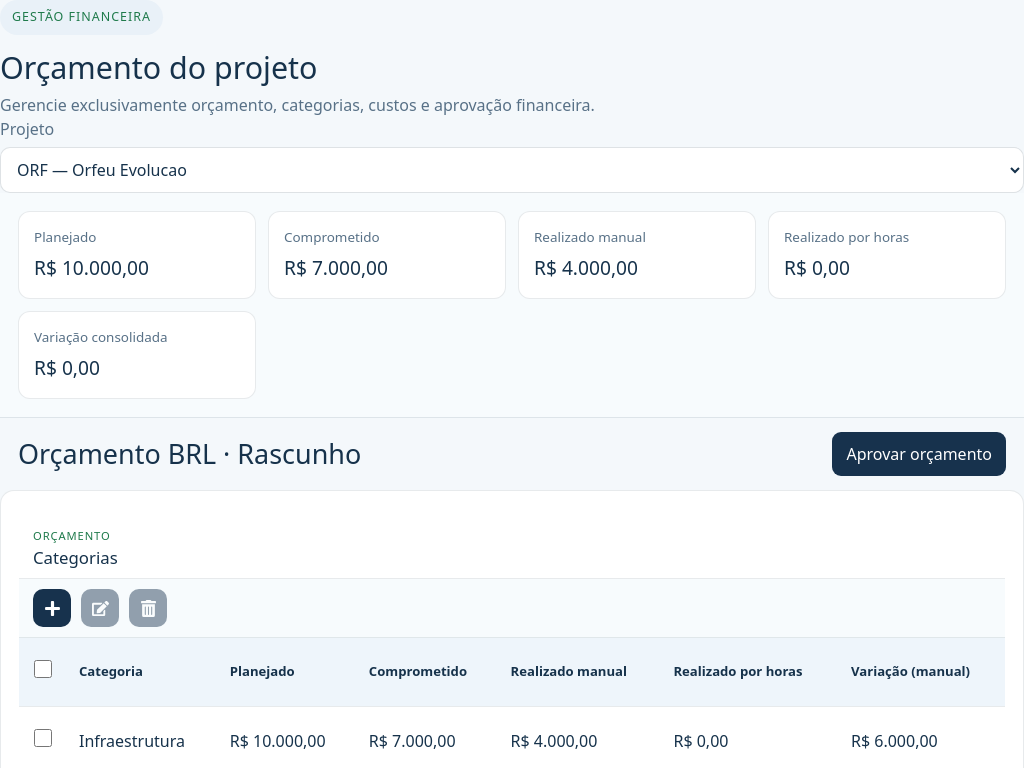
Test: Orcamento do projeto › mantém a aprovação concluída explícita quando falha a atualização da lista
Click the button "Aprovar orçamento" at (919, 454), box x1=832 y1=432 x2=1006 y2=476
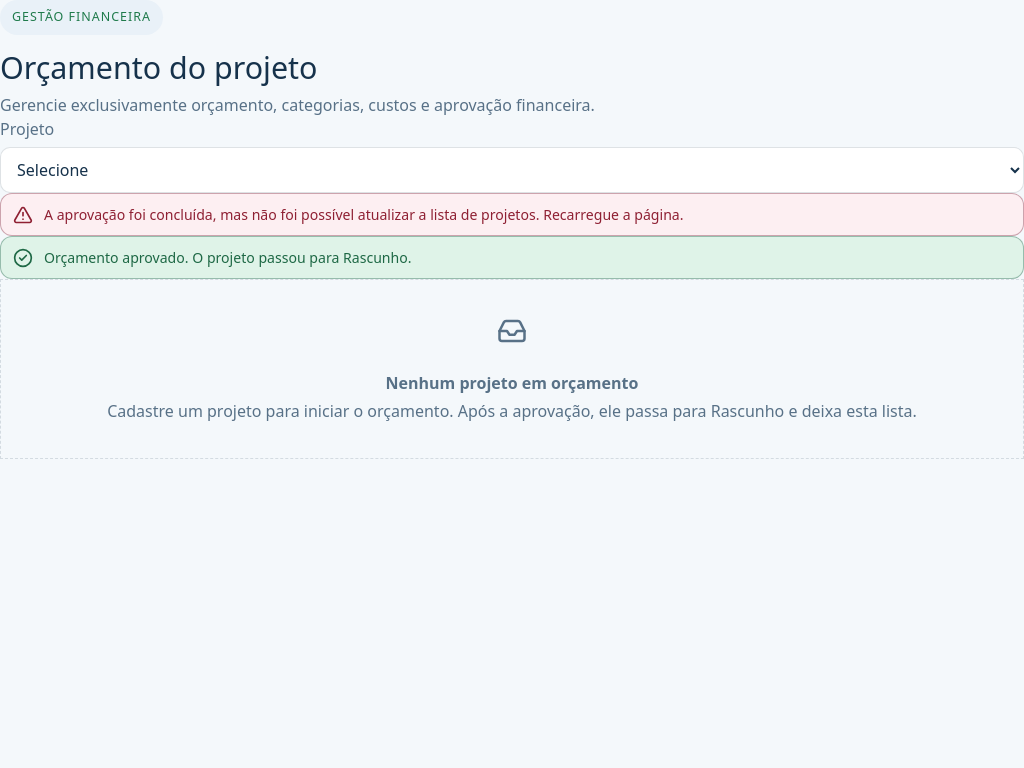
Expected: the 1st message shows "A aprovação foi concluída", x1=44 y1=205 x2=684 y2=224
Expected: the text "Orçamento aprovado. O projeto passou para Rascunho." is shown, x1=44 y1=248 x2=412 y2=267
Expected: the button "Aprovar orçamento" is gone
